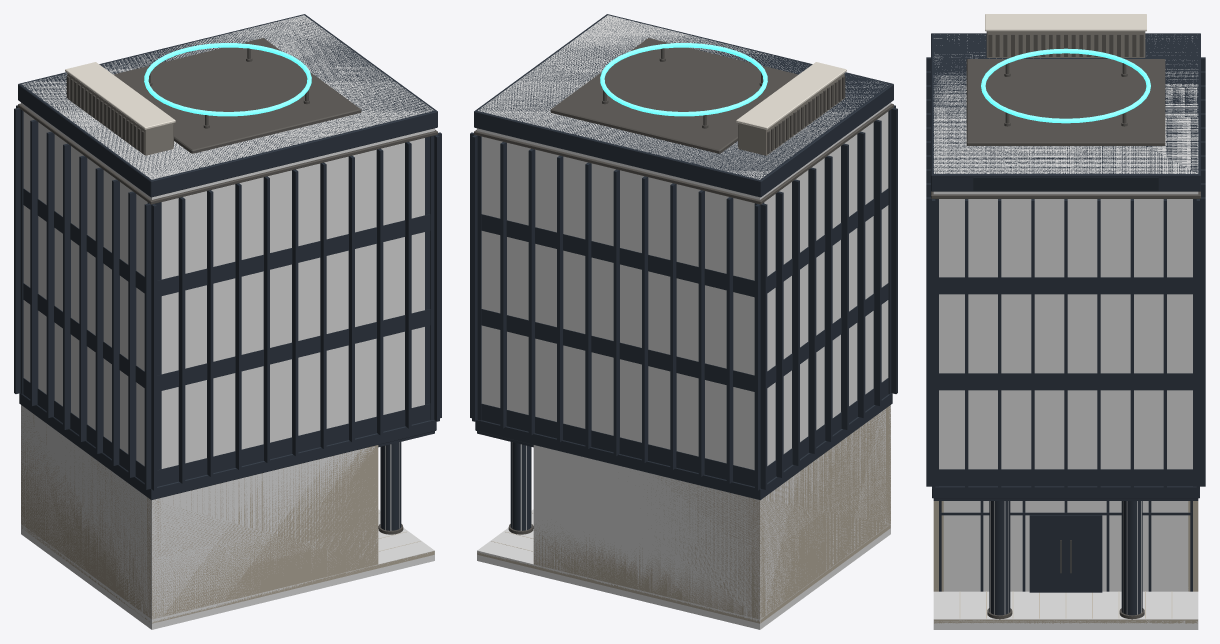
The picture shows the model from 3 angles, left to right: view 1: azimuth 30°, elevation 25°; view 2: azimuth 150°, elevation 25°; view 3: azimuth 270°, elevation 25°; orthographic projection.
Visible parts, largest first — view 1: T06_body, col_tower, col_lobby, col_floor, T06_ring; view 2: T06_body, col_tower, col_lobby, col_floor, T06_ring; view 3: T06_body, col_tower, col_lobby, col_floor, T06_ring, col_column_+2, col_column_-2.
Part boxes in pixels (x1=…): T06_body: x1=14, y1=14, x2=441, y2=623; col_tower: x1=21, y1=15, x2=434, y2=468; col_lobby: x1=21, y1=405, x2=377, y2=619; col_floor: x1=21, y1=509, x2=434, y2=629; T06_ring: x1=144, y1=43, x2=311, y2=116; T06_body: x1=470, y1=14, x2=897, y2=623; col_tower: x1=477, y1=15, x2=890, y2=469; col_lobby: x1=533, y1=405, x2=890, y2=619; col_floor: x1=477, y1=509, x2=890, y2=629; T06_ring: x1=600, y1=43, x2=767, y2=116; T06_body: x1=926, y1=14, x2=1205, y2=623; col_tower: x1=933, y1=34, x2=1198, y2=469; col_lobby: x1=943, y1=501, x2=1188, y2=591; col_floor: x1=933, y1=591, x2=1198, y2=629; T06_ring: x1=981, y1=48, x2=1150, y2=123; col_column_+2: x1=1123, y1=501, x2=1141, y2=614; col_column_-2: x1=990, y1=501, x2=1008, y2=614.
Bounding box in the file's own units: 10.44 × 16.18 × 8.44.
